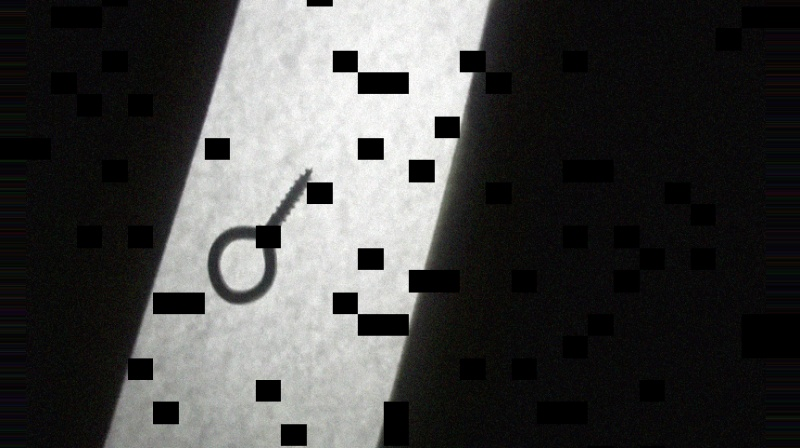O001: (202, 164, 315, 309)
